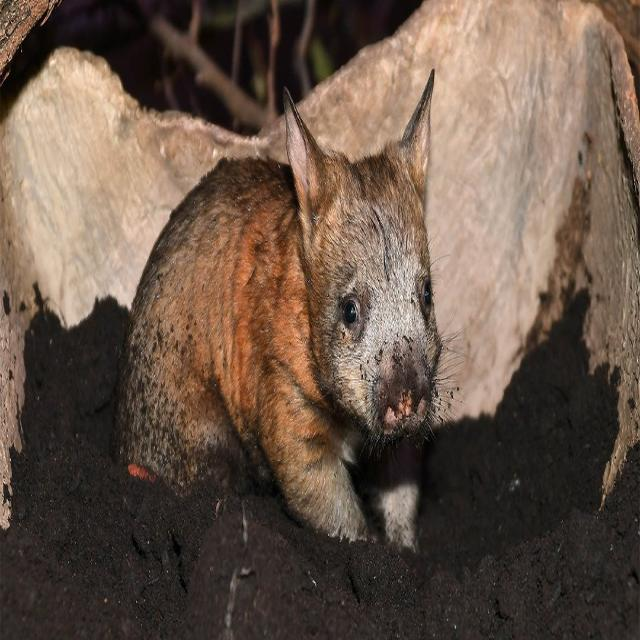Wombat: (117, 72, 450, 558)
